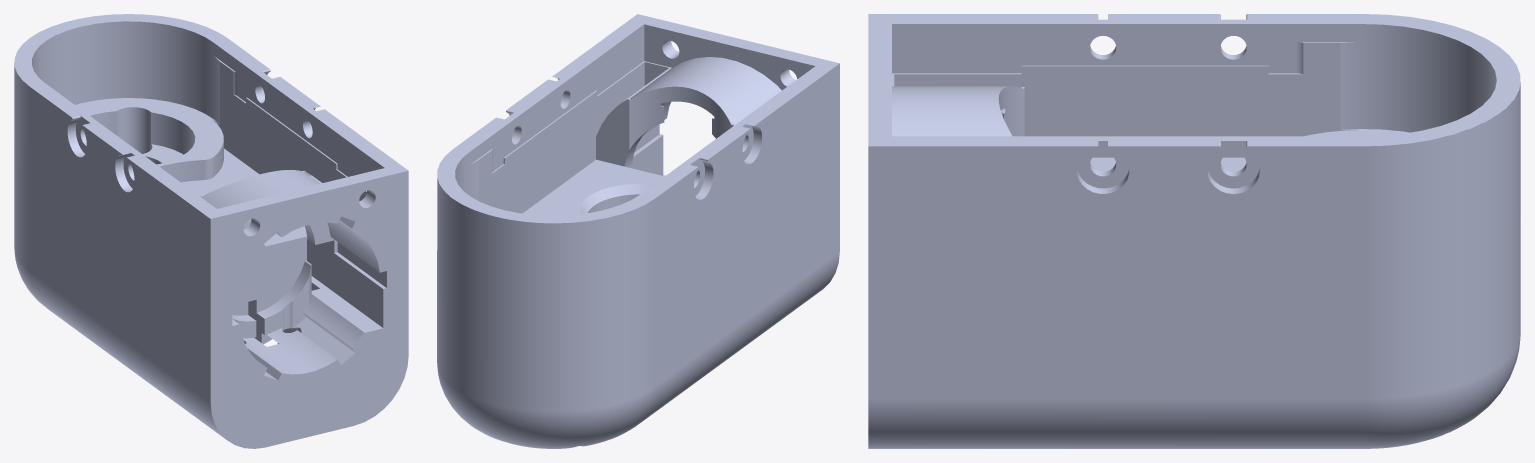
The model's file is codo.gltf.
3 views of the same model, side by side, from view 1: azimuth 30°, elevation 25°; view 2: azimuth 150°, elevation 25°; view 3: azimuth 270°, elevation 25° (orthographic). The views are drawn at different scales.
Parts seen in each view (by area): view 1: codo; view 2: codo; view 3: codo.
Boxes of the visible parts, x1,y1,x2,y2 form: codo: [14, 14, 408, 448]; codo: [437, 14, 839, 448]; codo: [868, 14, 1520, 448].
Size of the model in its own units: 0.036 by 0.042 by 0.075.
